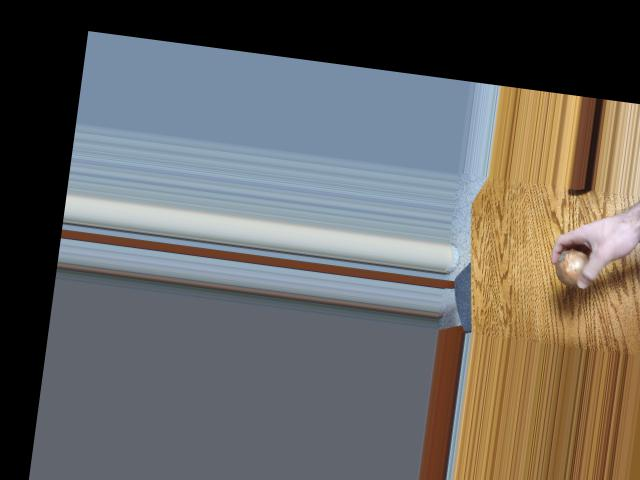onion: (552, 248, 595, 287)
